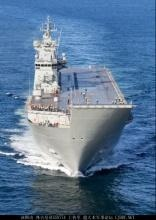warship: (21, 14, 131, 175)
